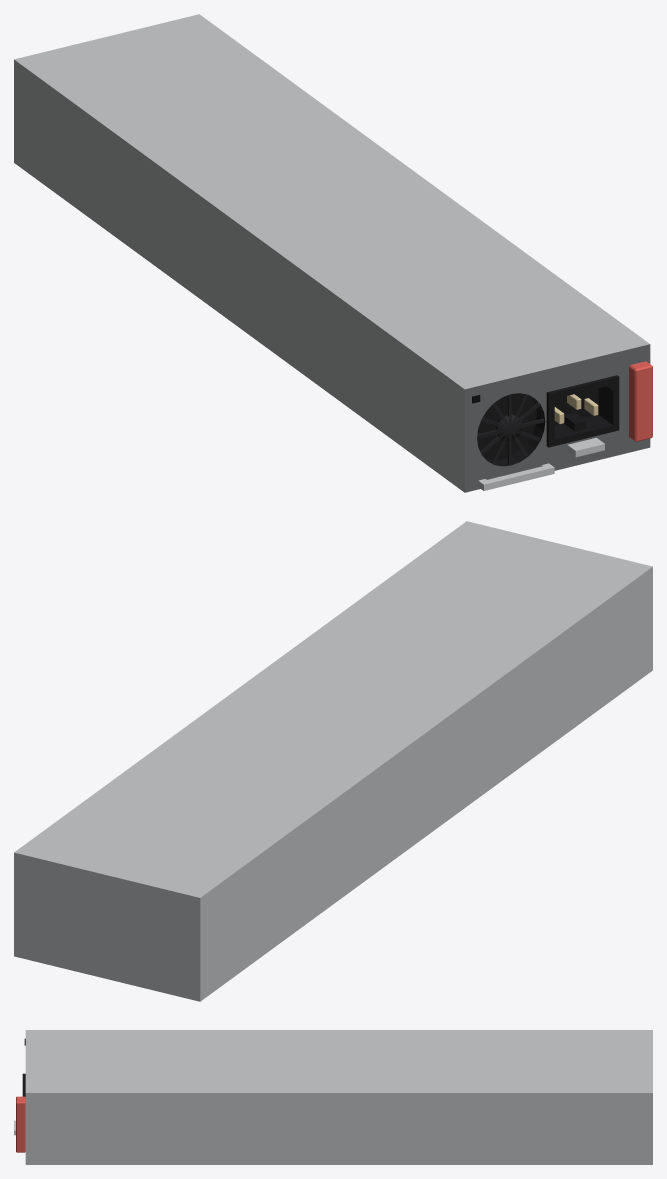
The model's file is C9K-PWR-1600WAC-R.glb.
3 renders of one model, top to bottom at view 1: azimuth 30°, elevation 25°; view 2: azimuth 150°, elevation 25°; view 3: azimuth 270°, elevation 25°, orthographic. The views are drawn at different scales.
Parts seen in each view (by area): view 1: C9K-PWR-1600WAC-R_Body; view 2: C9K-PWR-1600WAC-R_Body; view 3: C9K-PWR-1600WAC-R_Body.
Part boxes in pixels (x1=…): C9K-PWR-1600WAC-R_Body: x1=14, y1=14, x2=652, y2=492; C9K-PWR-1600WAC-R_Body: x1=14, y1=521, x2=652, y2=1001; C9K-PWR-1600WAC-R_Body: x1=14, y1=1030, x2=652, y2=1164.
Size of the model in its own units: 0.076 by 0.0405 by 0.326.
